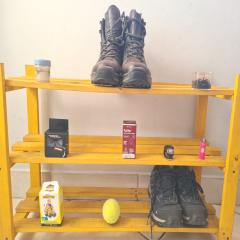bola: (102, 198, 120, 225)
bota1: (91, 5, 153, 90)
bota2: (148, 166, 208, 228)
cx-bike: (44, 117, 69, 158)
cx-ferro: (122, 121, 136, 158)
cx-minions: (39, 181, 64, 226)
cx-xuxa: (191, 71, 213, 89)
isqueiro: (197, 137, 207, 162)
luz: (163, 144, 176, 161)
pote: (34, 59, 51, 83)
